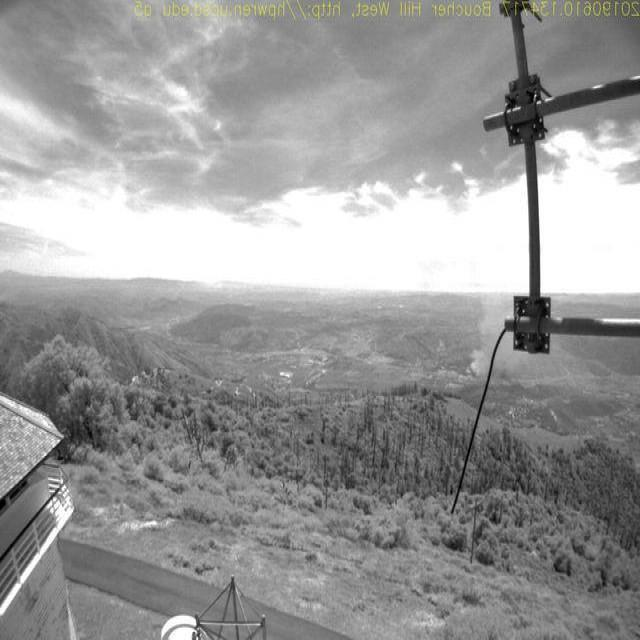Smoke: (463, 274, 525, 378)
